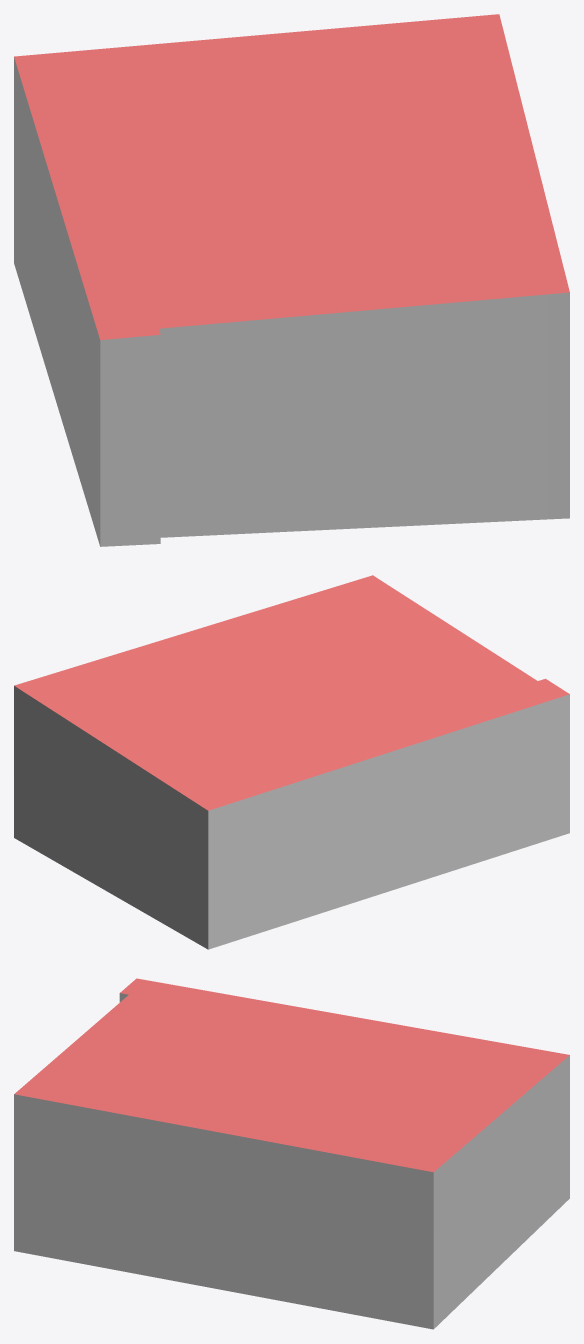
Rendered from DEBY_LOD2_4908136.gltf.
The picture shows the model from 3 angles, top to bottom: view 1: azimuth 30°, elevation 25°; view 2: azimuth 150°, elevation 25°; view 3: azimuth 270°, elevation 25°; orthographic projection. The views are drawn at different scales.
Visible parts, largest first — view 1: Z_UP; view 2: Z_UP; view 3: Z_UP.
Part boxes in pixels (x1=…): Z_UP: x1=14, y1=14, x2=569, y2=546; Z_UP: x1=14, y1=575, x2=569, y2=949; Z_UP: x1=14, y1=978, x2=569, y2=1329.
Size of the model in its own units: 9.66 by 3.41 by 10.93.
